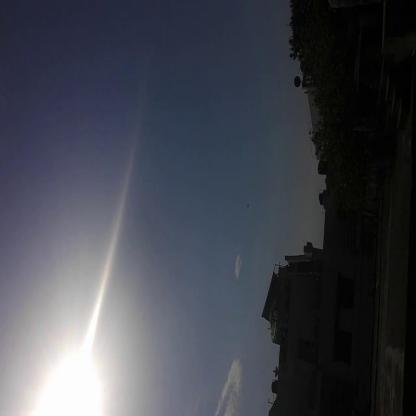other: (17, 275, 124, 415)
